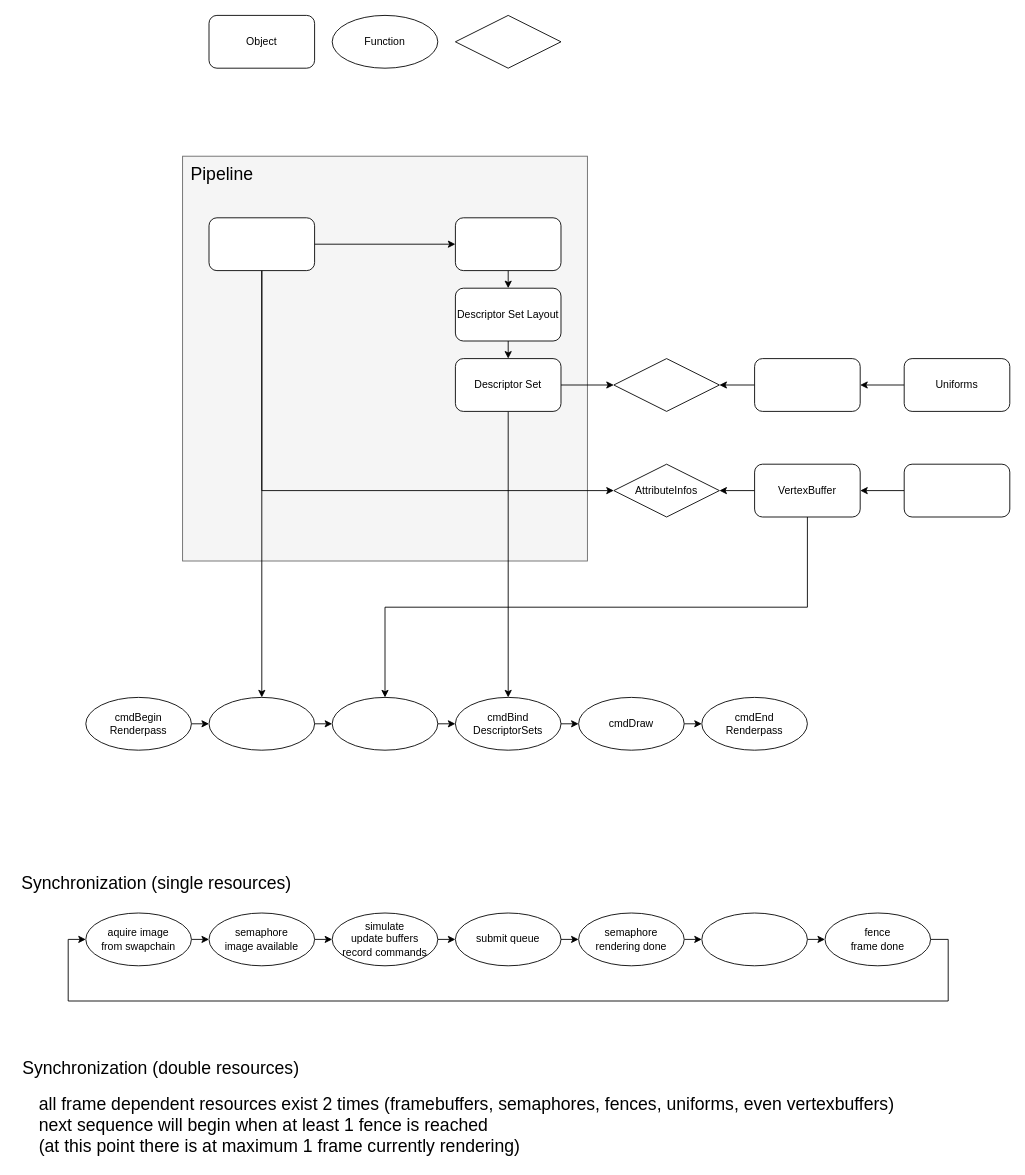
Some shapes in this 1025 by 1175 pixel diagram are drawn without their labels. Each missing label, with the box of its shape:
cmdBind GraphicsPipeline: (208, 697, 315, 750)
cmdBind VertexBuffers: (331, 697, 438, 750)
Compatibility: (455, 15, 561, 68)
GraphicsPipeline: (208, 217, 315, 271)
Pipeline Layout: (455, 217, 561, 271)
present: (701, 912, 807, 966)
UniformBuffers UniformTextures: (754, 358, 860, 411)
UniformInfos: (613, 358, 719, 411)
Vertices: (903, 463, 1010, 517)
